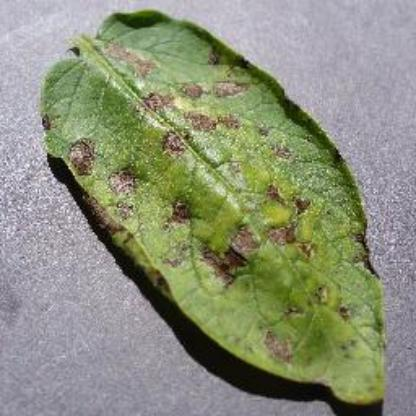Early-Blight: (39, 10, 393, 406)
